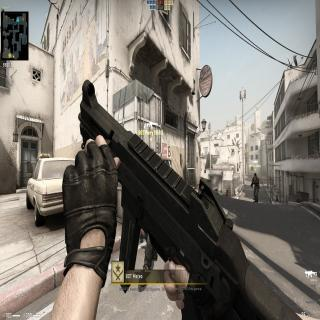T-Head: (254, 172, 256, 178)
